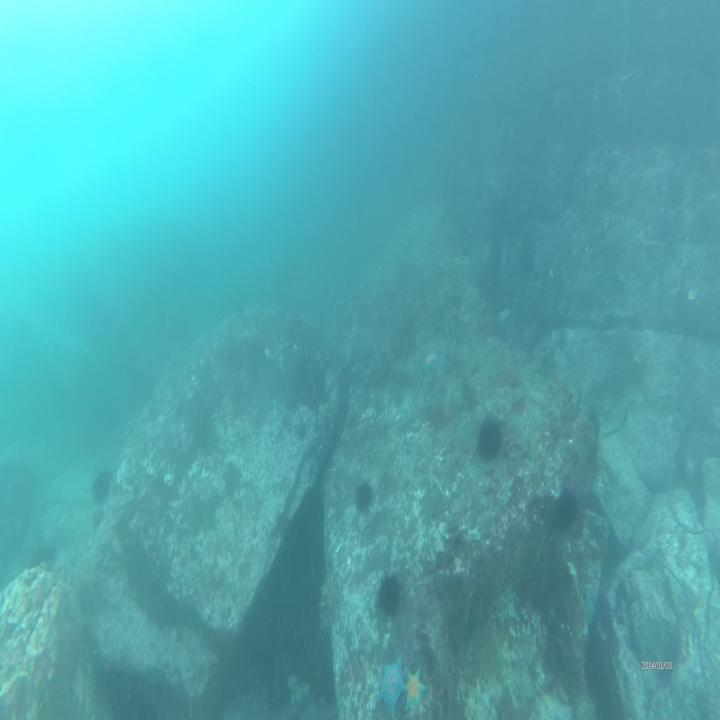echinus: (316, 570, 344, 636), (476, 410, 506, 467), (377, 566, 405, 618), (89, 460, 115, 513), (555, 479, 580, 531), (352, 473, 376, 520)
starfish: (376, 654, 406, 717), (400, 664, 429, 714)
